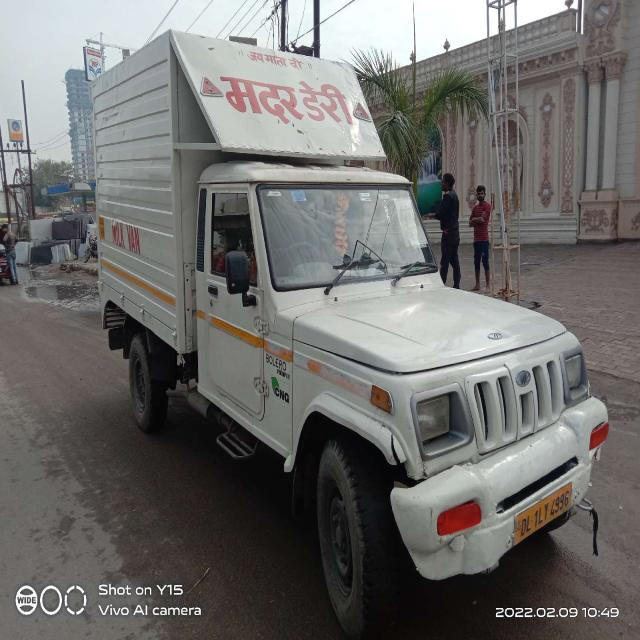light_vehicle: (91, 135, 599, 549)
